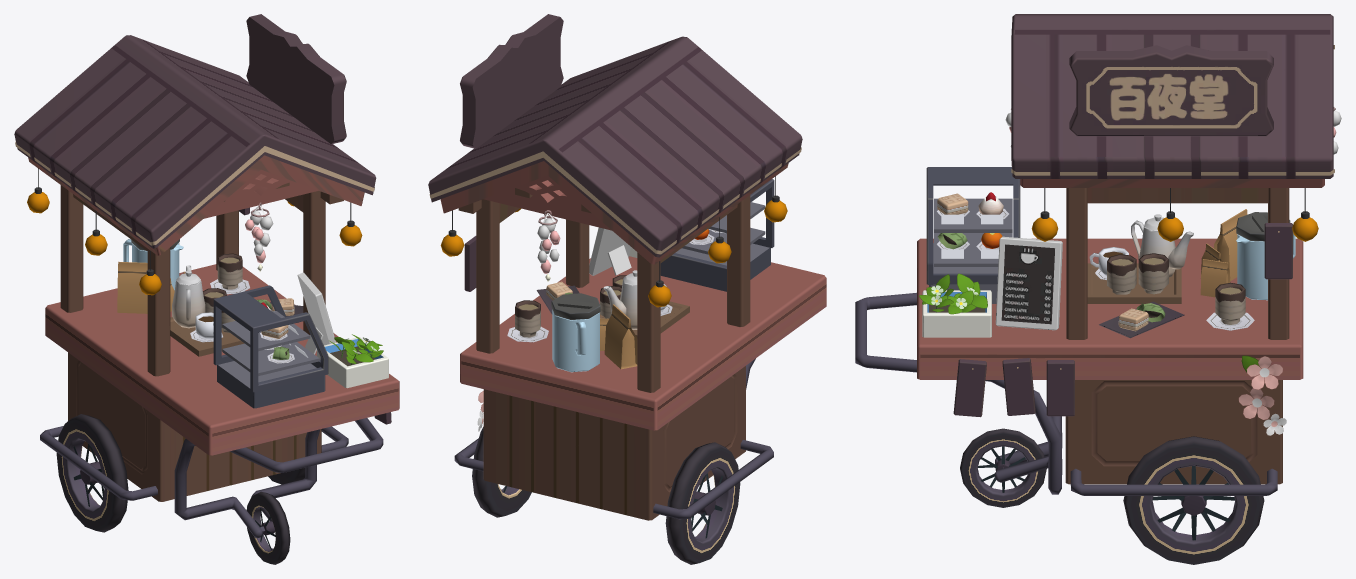
File: Shizuko_Original_Teahouse_Idle.fbx
The picture shows the model from 3 angles, left to right: view 1: azimuth 30°, elevation 25°; view 2: azimuth 150°, elevation 25°; view 3: azimuth 270°, elevation 25°; orthographic projection. The views are drawn at different scales.
Parts seen in each view (by area): view 1: Shizuko_Original_Teahouse_Idle; view 2: Shizuko_Original_Teahouse_Idle; view 3: Shizuko_Original_Teahouse_Idle.
Boxes of the visible parts, bbox=[...] form: Shizuko_Original_Teahouse_Idle: bbox=[14, 14, 399, 564]; Shizuko_Original_Teahouse_Idle: bbox=[428, 14, 826, 564]; Shizuko_Original_Teahouse_Idle: bbox=[855, 14, 1341, 564].
Bounding box in the file's own units: 0.9135 × 1.71 × 1.45.
2 materials, 1 textured.
